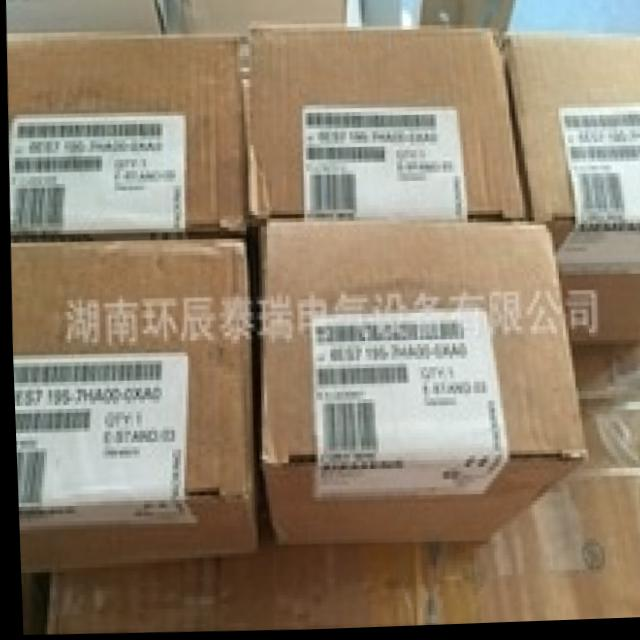box: (42, 345, 640, 630), (250, 220, 584, 548), (8, 236, 256, 576), (239, 30, 523, 221), (6, 29, 247, 239), (498, 35, 640, 348), (177, 0, 346, 31), (6, 0, 166, 31), (413, 0, 515, 35)
